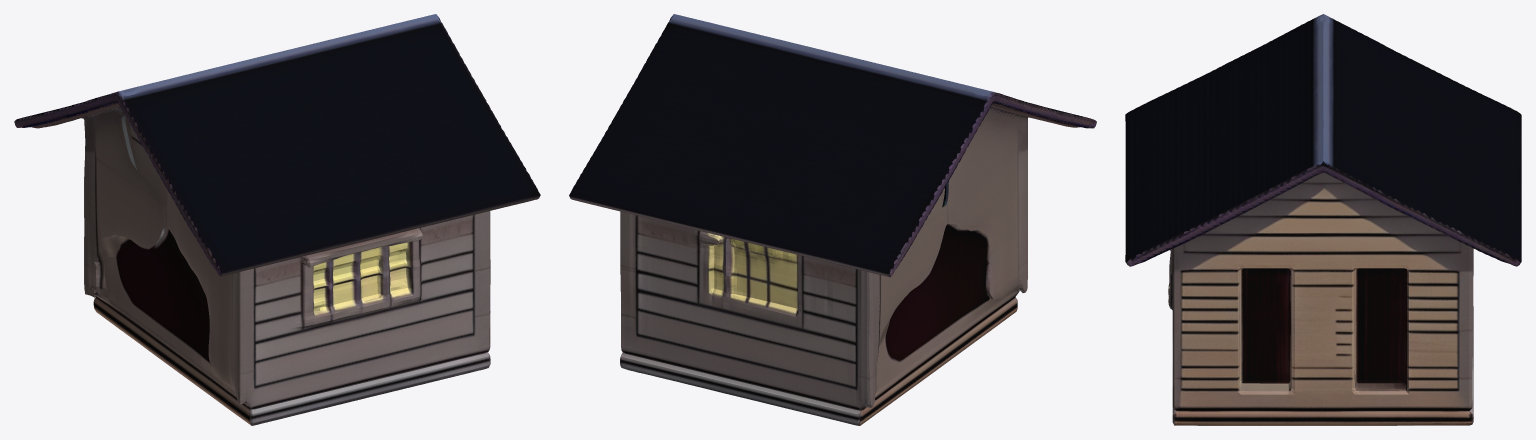
Rendered from cabin_house1.glb.
3 renders of one model, left to right at view 1: azimuth 30°, elevation 25°; view 2: azimuth 150°, elevation 25°; view 3: azimuth 270°, elevation 25°, orthographic. The views are drawn at different scales.
Parts seen in each view (by area): view 1: tmpo0ysrp1w.ply; view 2: tmpo0ysrp1w.ply; view 3: tmpo0ysrp1w.ply.
Part boxes in pixels (x1=…): tmpo0ysrp1w.ply: x1=14, y1=14, x2=540, y2=425; tmpo0ysrp1w.ply: x1=569, y1=14, x2=1096, y2=425; tmpo0ysrp1w.ply: x1=1125, y1=14, x2=1521, y2=425.
Size of the model in its own units: 1.74 by 1.51 by 1.96.
1 material, 1 textured.
